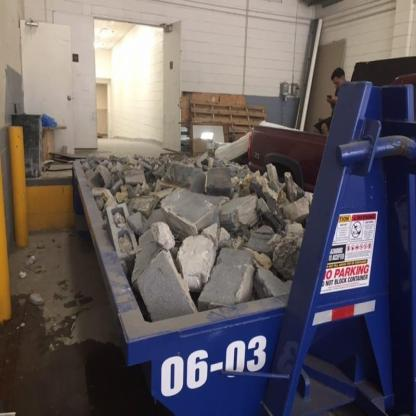brick: (79, 150, 314, 320), (29, 293, 44, 303), (27, 256, 37, 267), (35, 241, 44, 248), (19, 296, 26, 303), (19, 272, 26, 277)
